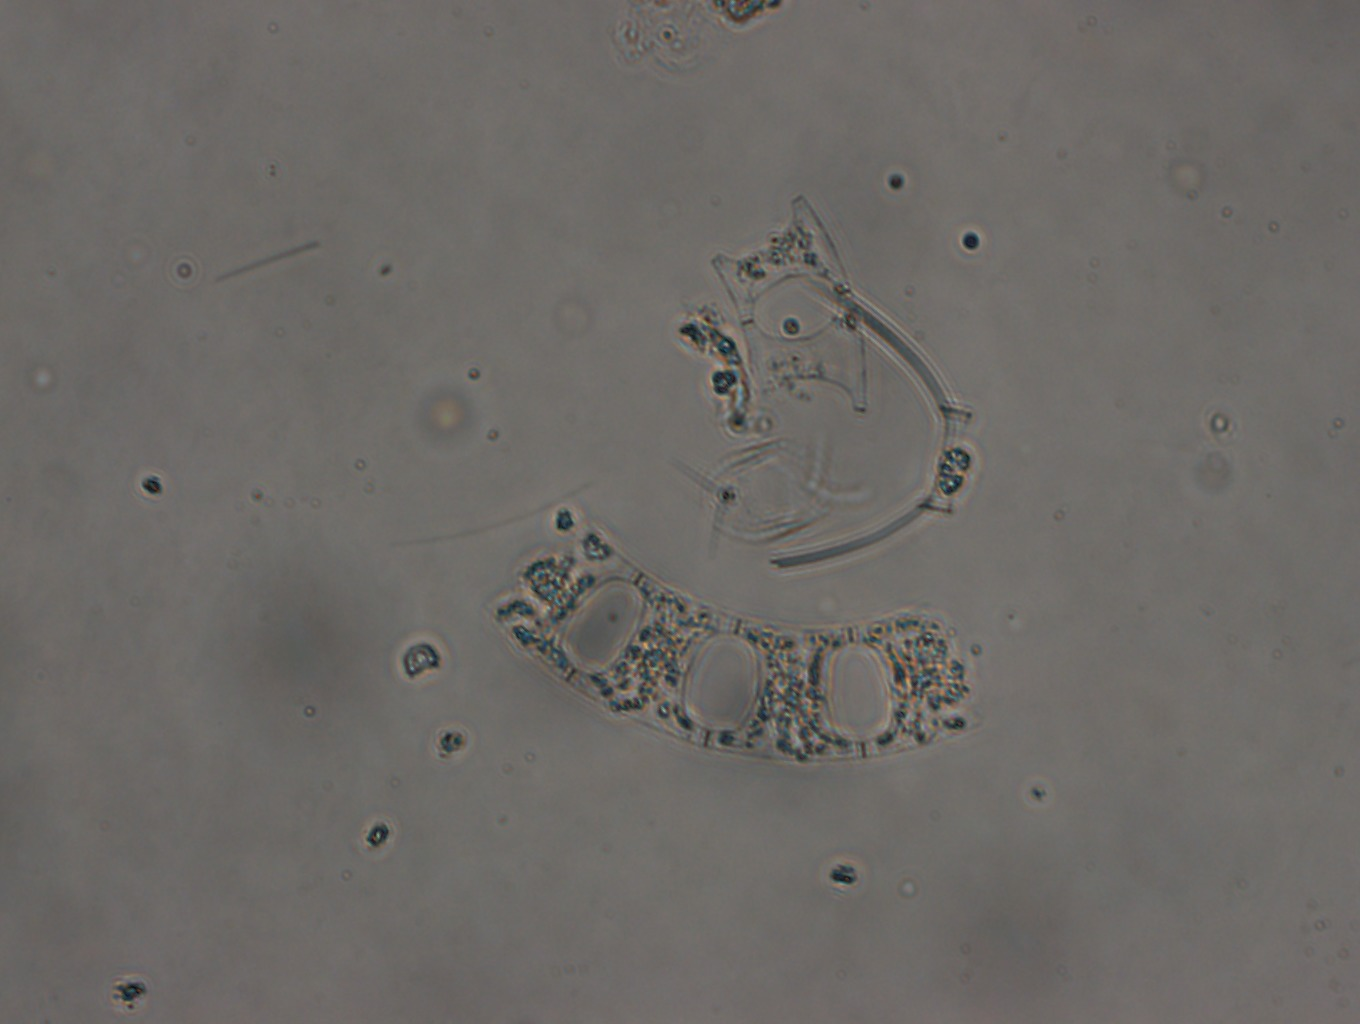chaetoceros: (774, 280, 976, 569)
eucampia: (491, 525, 983, 767), (710, 191, 872, 422)
